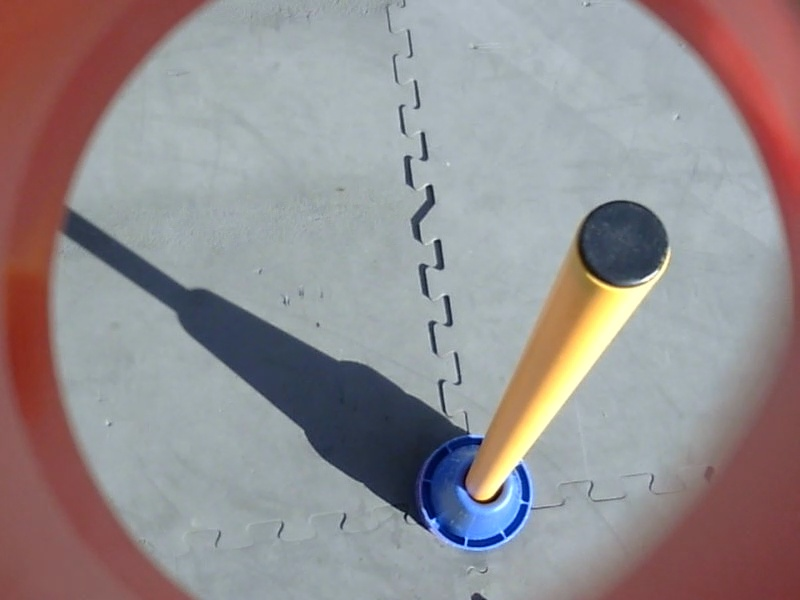tip: (569, 196, 676, 291)
